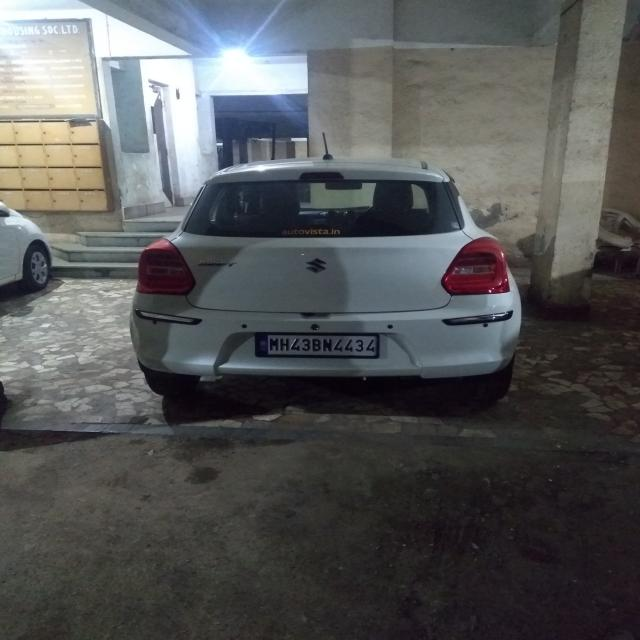Number-Plate: (257, 331, 380, 357)
